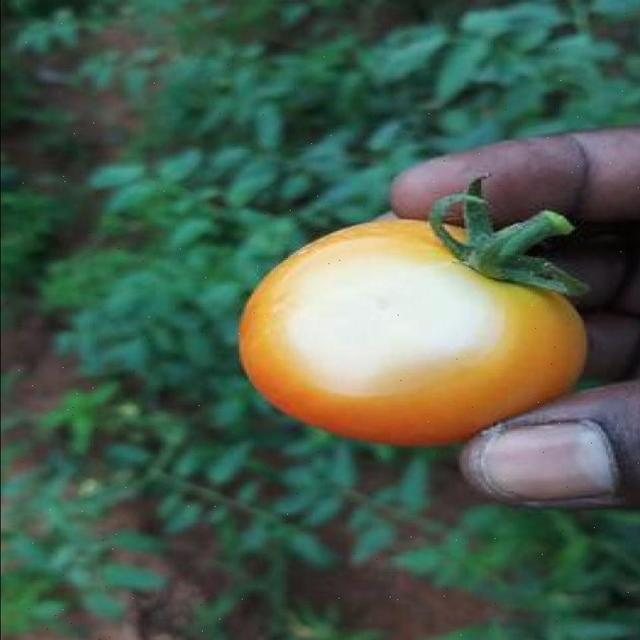Sunscald Fruit: (177, 160, 346, 263)
